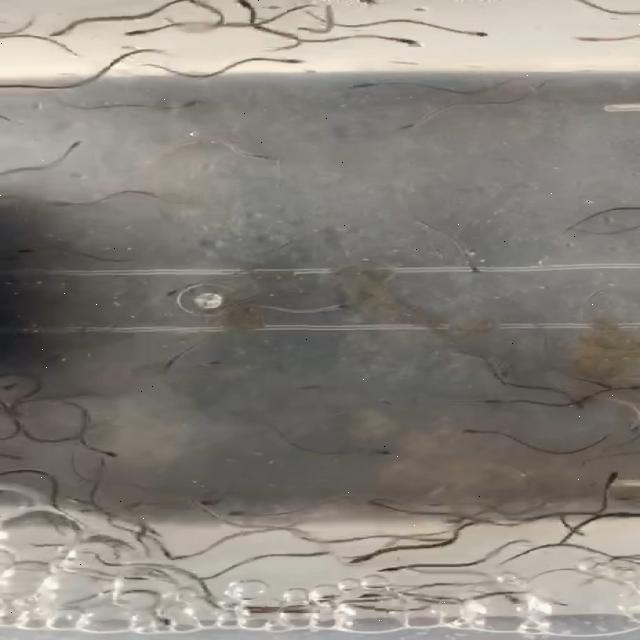active_glass_eel: (346, 72, 416, 96), (245, 143, 302, 169), (392, 108, 448, 134), (80, 432, 128, 462), (440, 420, 506, 440), (314, 296, 364, 322), (100, 23, 154, 47), (449, 250, 495, 278), (338, 548, 392, 570), (195, 354, 248, 376), (453, 23, 511, 43), (292, 544, 340, 568), (39, 24, 91, 46), (170, 94, 217, 118), (279, 379, 325, 403), (212, 508, 262, 530), (562, 26, 610, 48), (380, 33, 430, 54), (225, 0, 285, 17), (572, 524, 616, 546), (369, 443, 415, 464), (36, 195, 78, 217), (450, 396, 504, 412), (54, 134, 90, 156), (438, 509, 468, 535), (602, 380, 640, 400), (590, 472, 634, 489), (160, 552, 206, 568), (181, 494, 217, 514), (126, 540, 160, 560), (378, 560, 412, 580), (555, 392, 588, 409), (277, 54, 317, 68), (582, 376, 622, 388)
